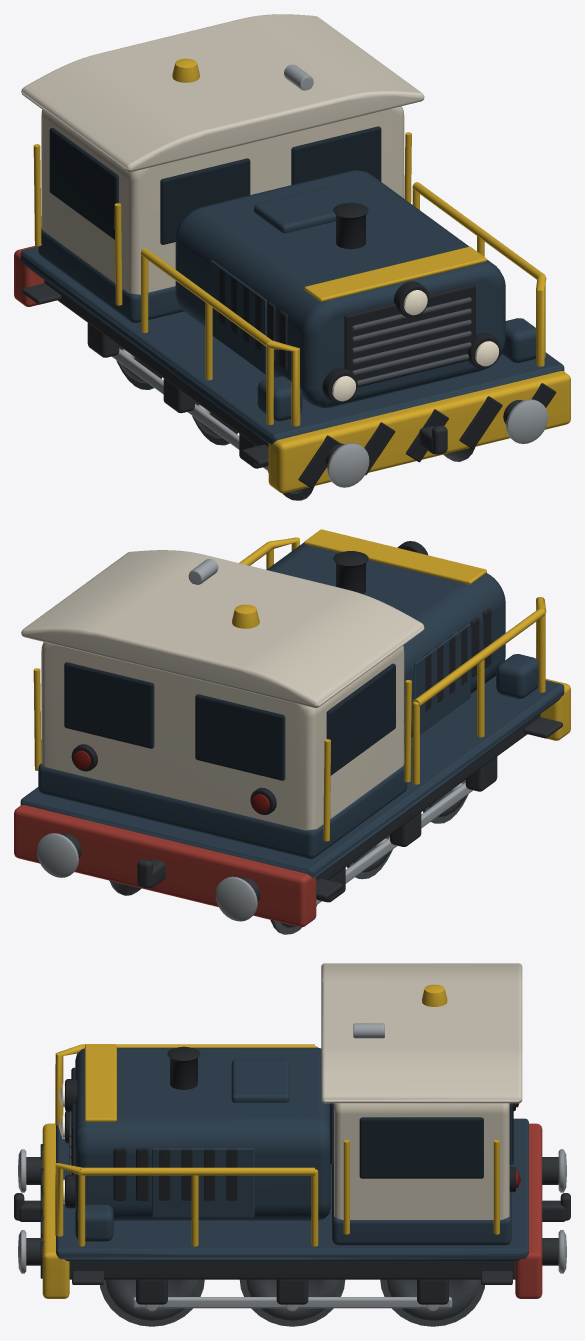
The model's file is loco.glb.
3 renders of one model, top to bottom at view 1: azimuth 30°, elevation 25°; view 2: azimuth 150°, elevation 25°; view 3: azimuth 270°, elevation 25°, orthographic. The views are drawn at different scales.
Parts seen in each view (by area): view 1: Body; view 2: Body; view 3: Body.
Boxes of the visible parts, x1,y1,x2,y2 form: Body: (14,14,570,500); Body: (14,529,570,934); Body: (14,963,570,1326).
Bounding box in the file's own units: 0.512 × 0.501 × 0.872.
